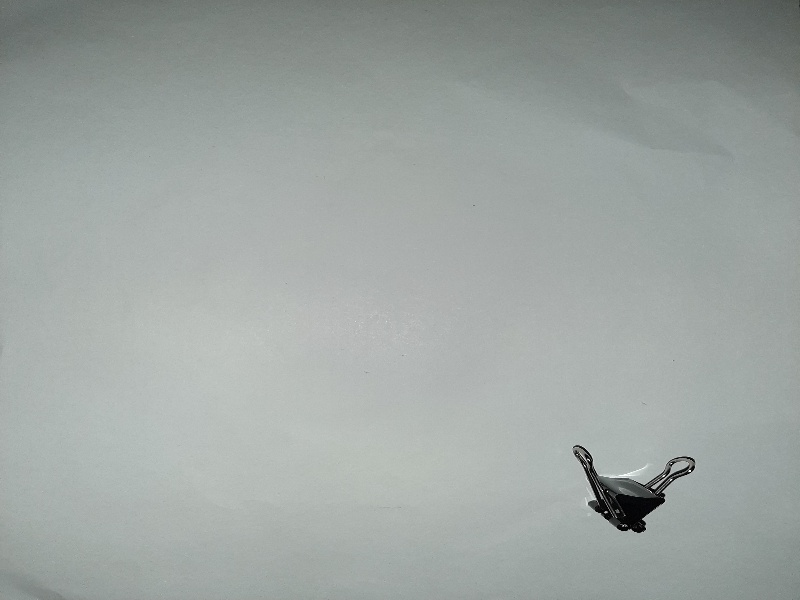Big Paperclip: (565, 432, 702, 542)
